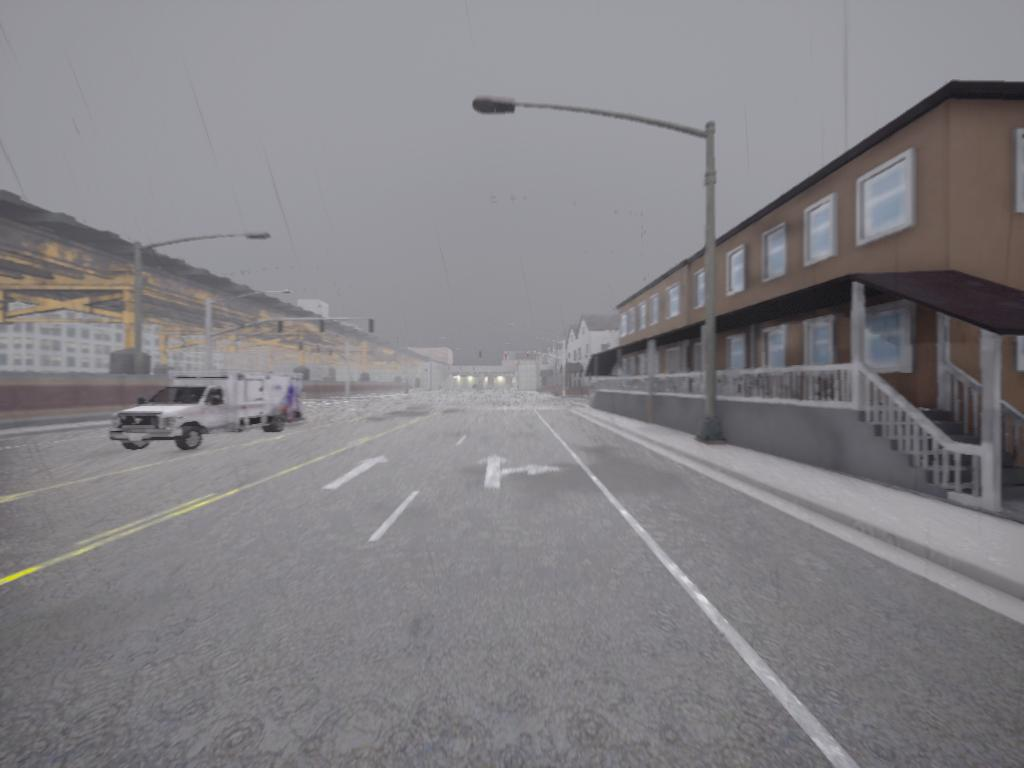traffic_light: (368, 320, 375, 335), (320, 318, 326, 335), (278, 321, 284, 336), (479, 352, 484, 361), (505, 352, 509, 362), (527, 352, 530, 362)
